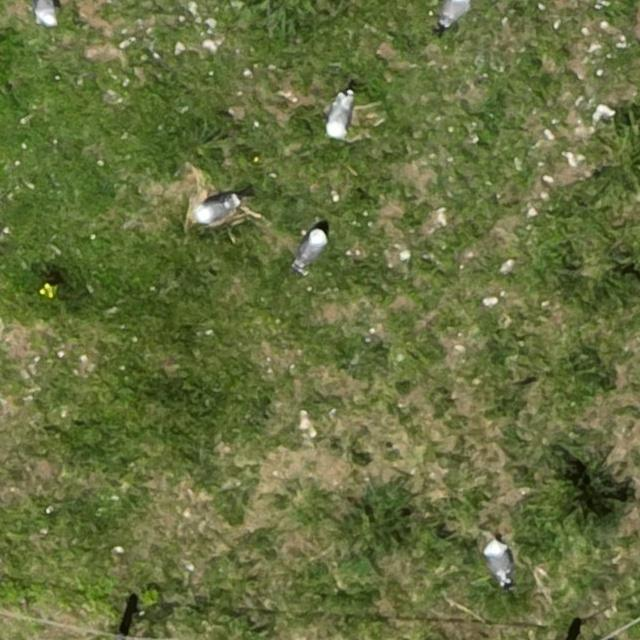umineko: (487, 540, 512, 582), (328, 96, 350, 138), (300, 231, 324, 264), (198, 198, 234, 220), (441, 1, 468, 24), (36, 1, 56, 27)
